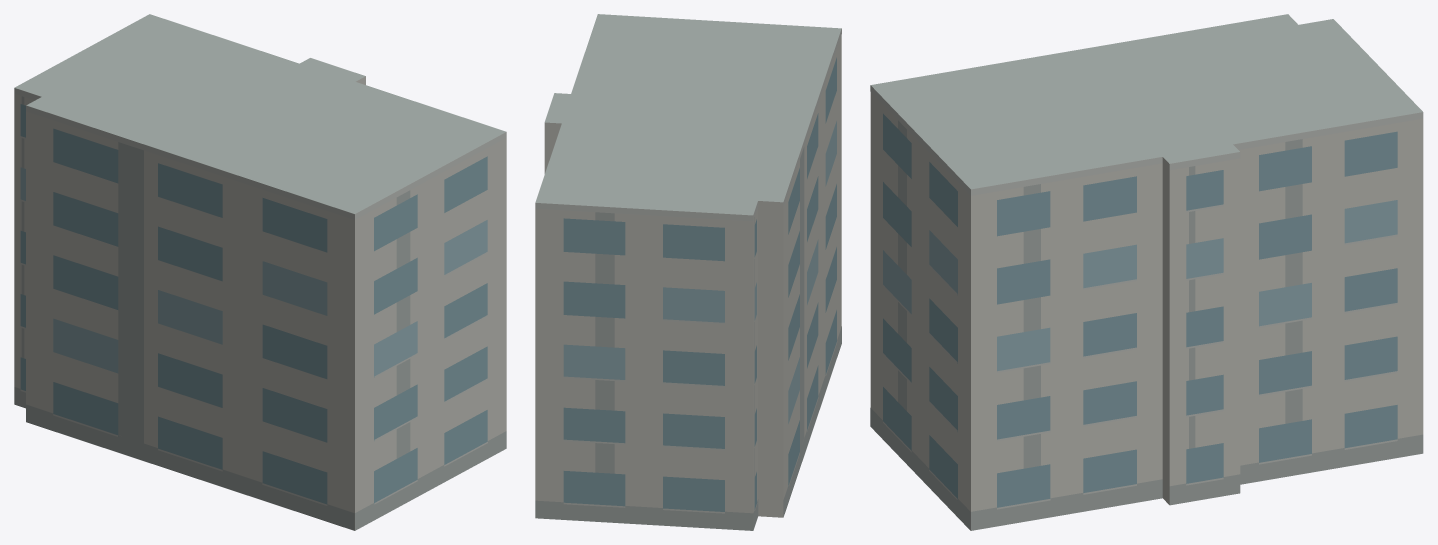
Rendered from survey-upis-32684199.glb.
3 renders of one model, left to right at view 1: azimuth 30°, elevation 25°; view 2: azimuth 150°, elevation 25°; view 3: azimuth 270°, elevation 25°, orthographic. The views are drawn at different scales.
Visible parts, largest first — view 1: survey-upis-32684199.tmp; view 2: survey-upis-32684199.tmp; view 3: survey-upis-32684199.tmp.
Boxes of the visible parts, <box> form: survey-upis-32684199.tmp: <box>14,14,506,530</box>; survey-upis-32684199.tmp: <box>535,14,841,530</box>; survey-upis-32684199.tmp: <box>870,14,1423,530</box>.
Bounding box in the file's own units: 14.22 × 12.9 × 18.94.
